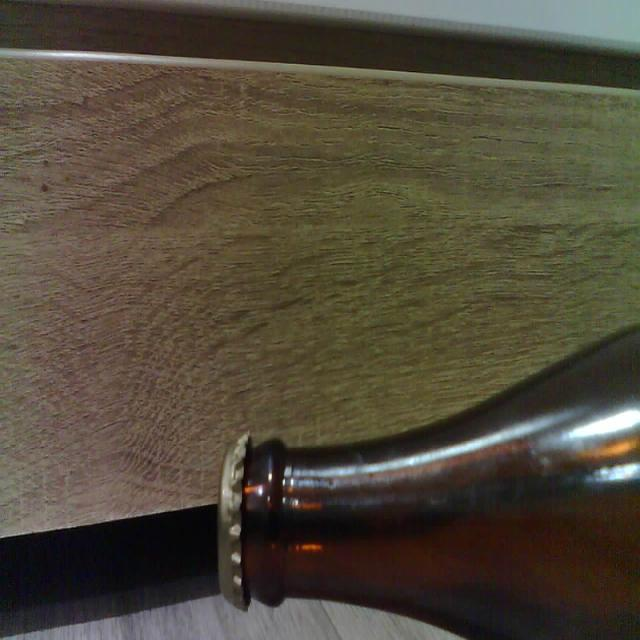bottle: (218, 325, 640, 639)
